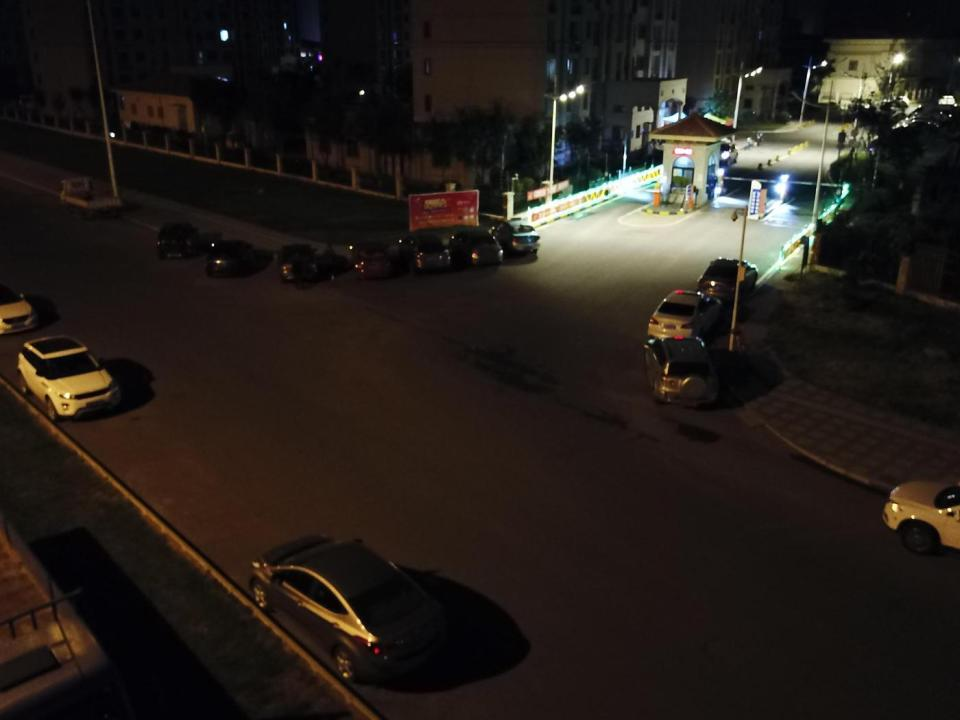car: (248, 533, 447, 685), (17, 335, 122, 421), (882, 477, 960, 557), (642, 335, 720, 411), (647, 288, 724, 344), (698, 257, 760, 300), (449, 229, 504, 265), (400, 233, 450, 272), (205, 239, 253, 276), (492, 218, 540, 253), (276, 243, 319, 282), (349, 241, 393, 279), (156, 221, 198, 258)
truck: (60, 176, 122, 218)
